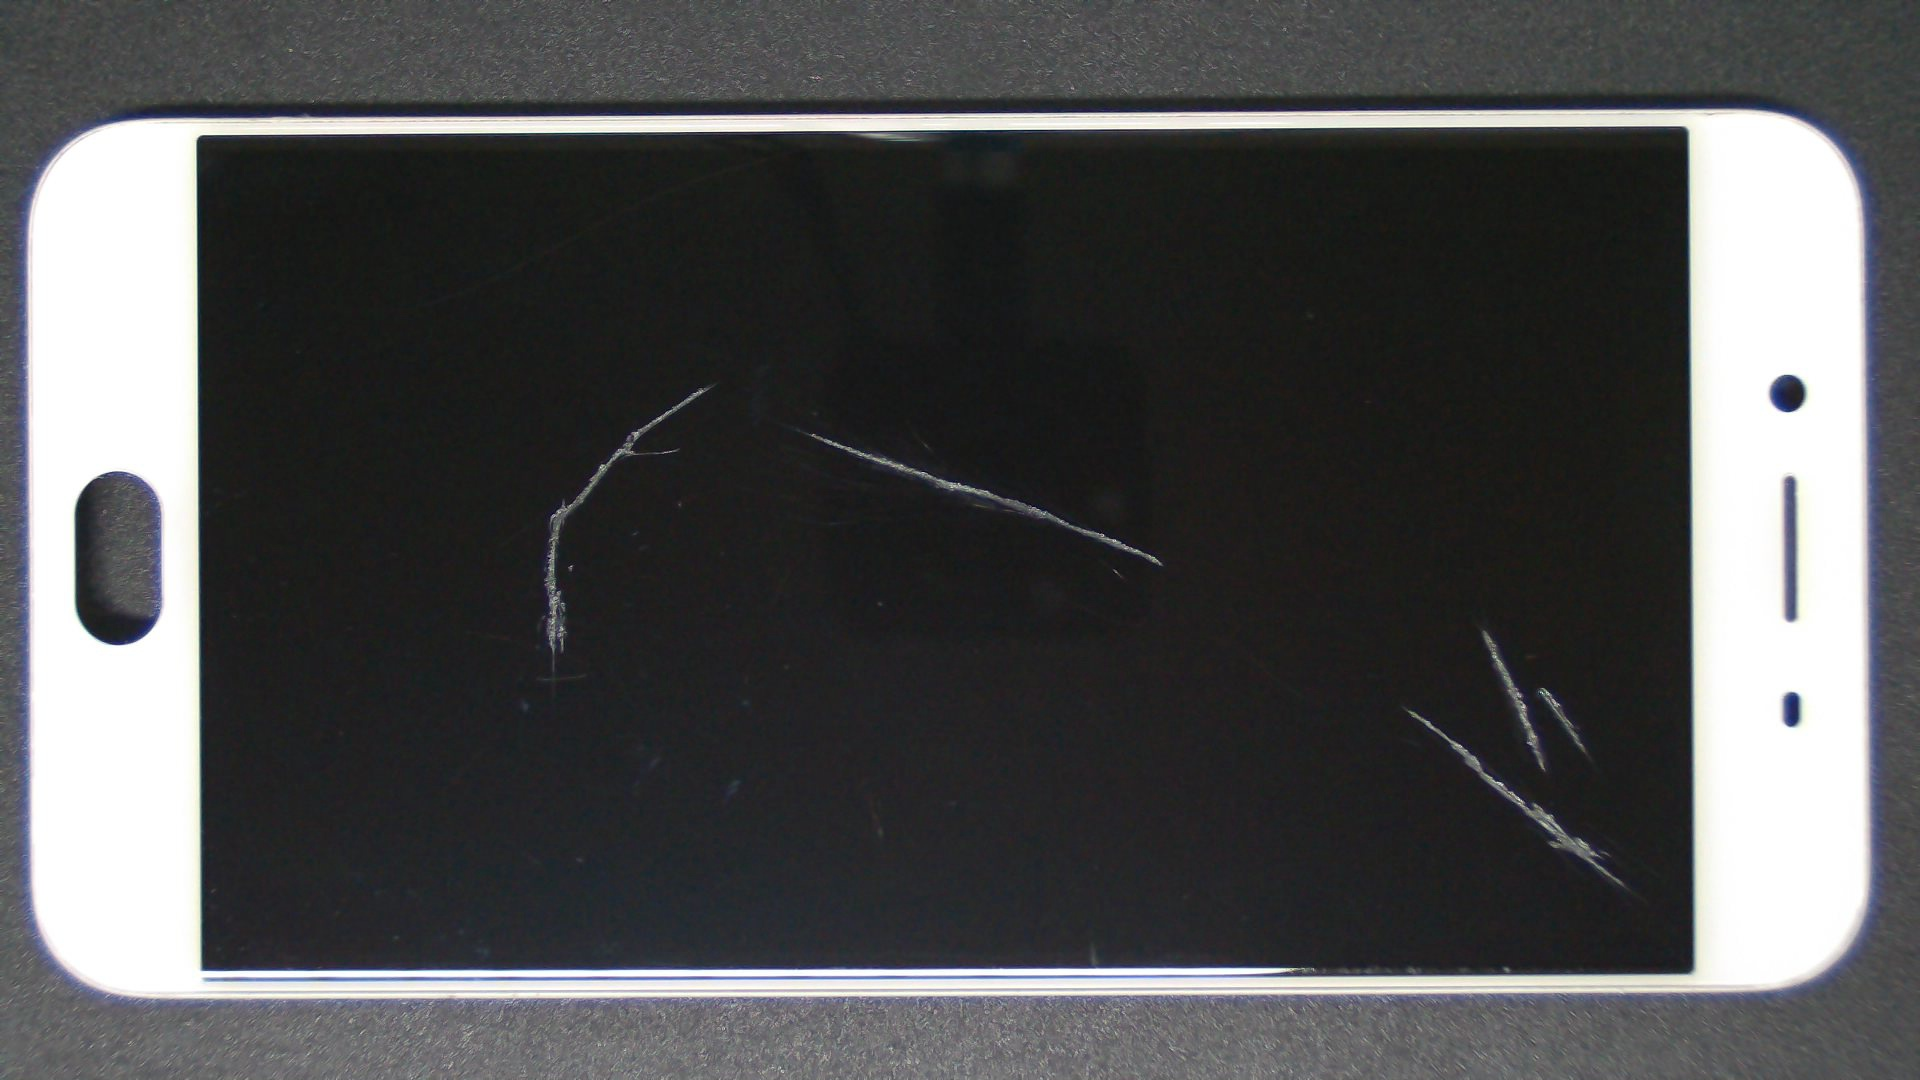oil: (695, 348, 1920, 1064), (770, 343, 1920, 1030), (741, 313, 1920, 942), (400, 214, 1197, 642), (360, 190, 1076, 574)
